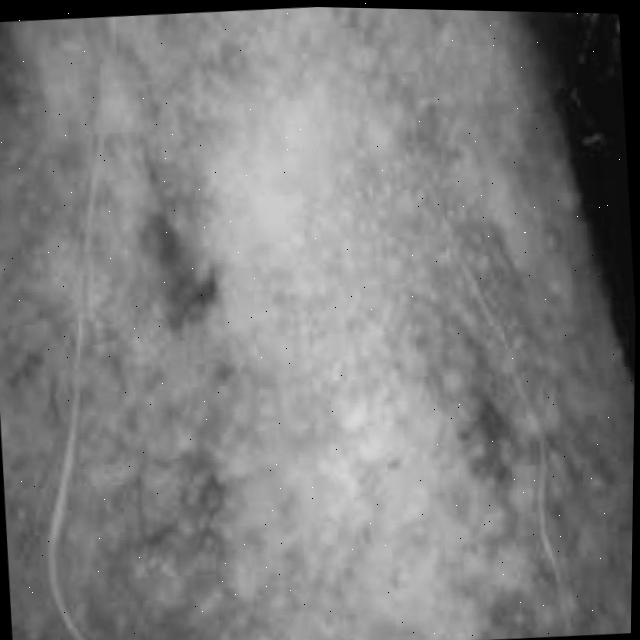Rosacea: (0, 4, 294, 640), (374, 114, 638, 640)
